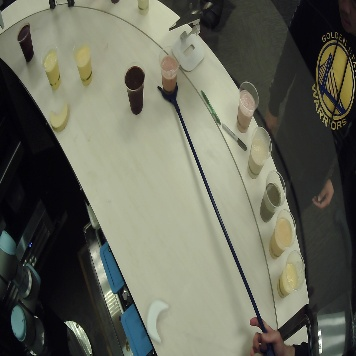full_cup: (276, 249, 305, 299), (246, 126, 272, 179), (259, 170, 285, 223), (269, 208, 295, 260), (123, 61, 145, 115), (236, 80, 258, 132), (73, 38, 93, 86), (41, 43, 61, 91), (158, 47, 179, 92), (16, 21, 34, 63), (137, 1, 149, 15)
puck: (146, 299, 170, 345), (48, 103, 70, 131)
